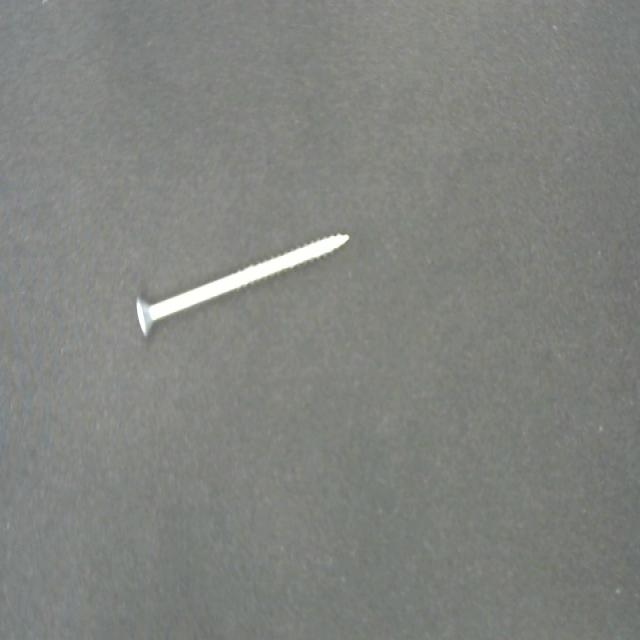WoodScrew: (134, 229, 350, 339)
